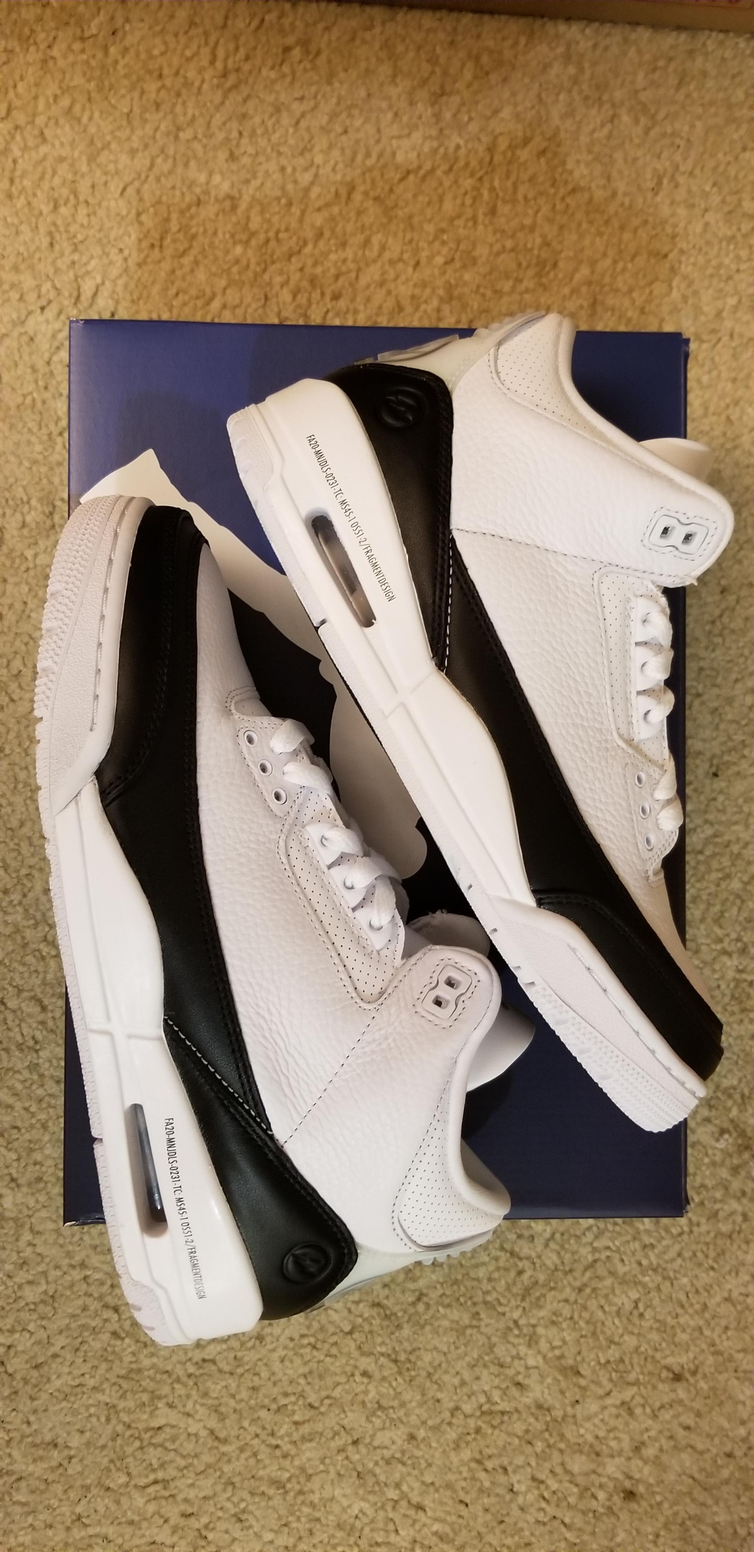sneaker: (27, 486, 520, 1356), (229, 314, 740, 1136)
